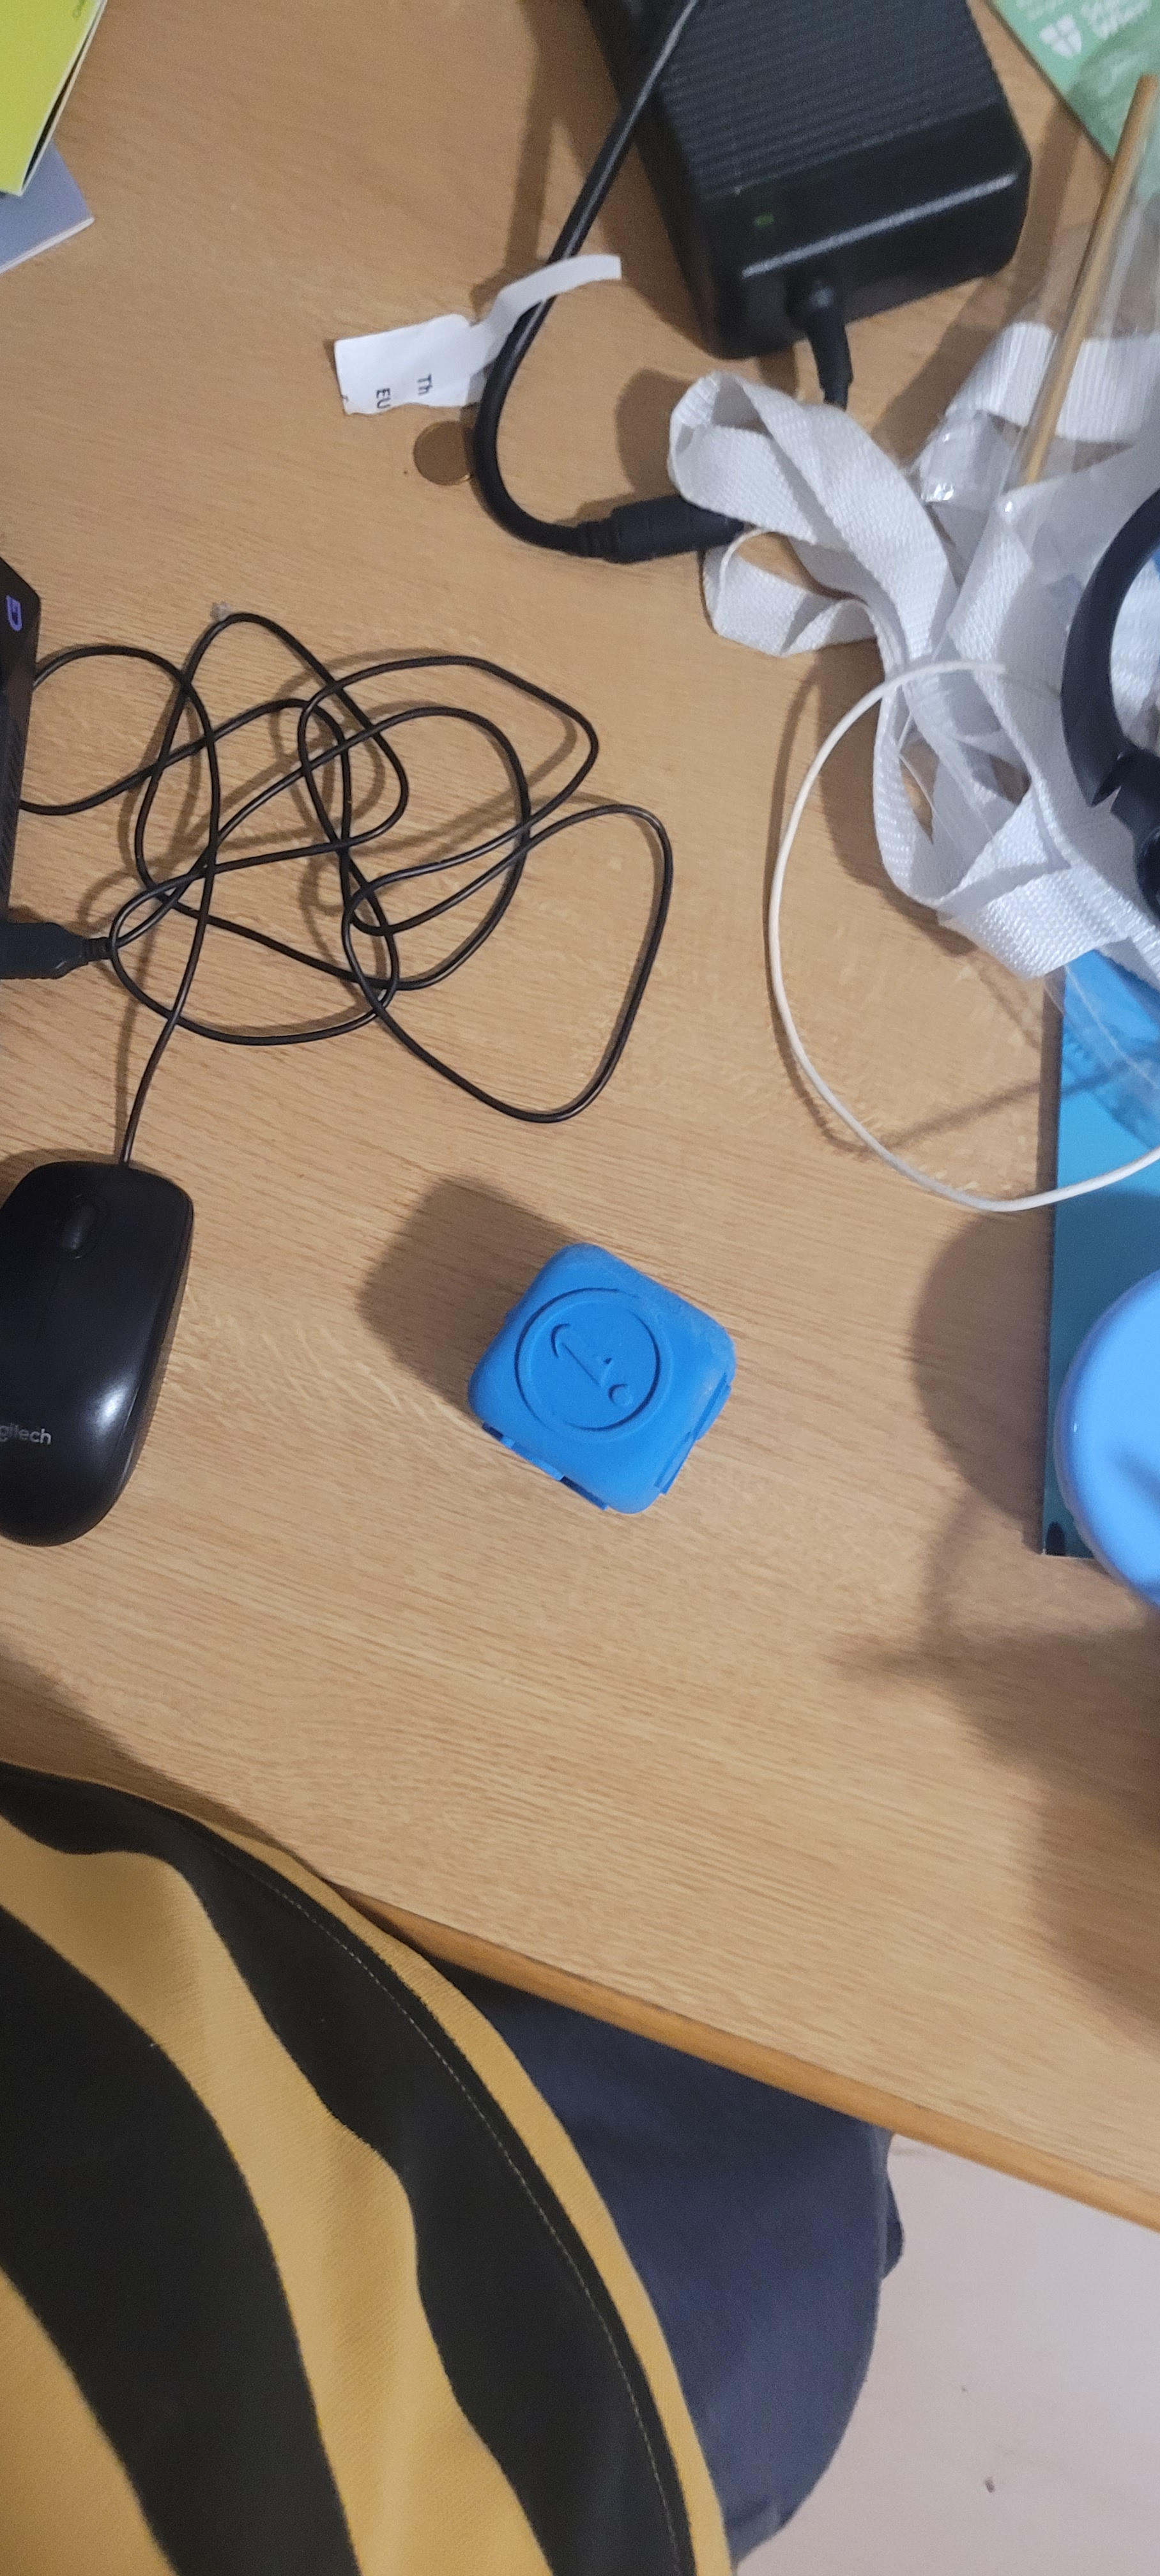Info: (506, 1242, 665, 1480)
